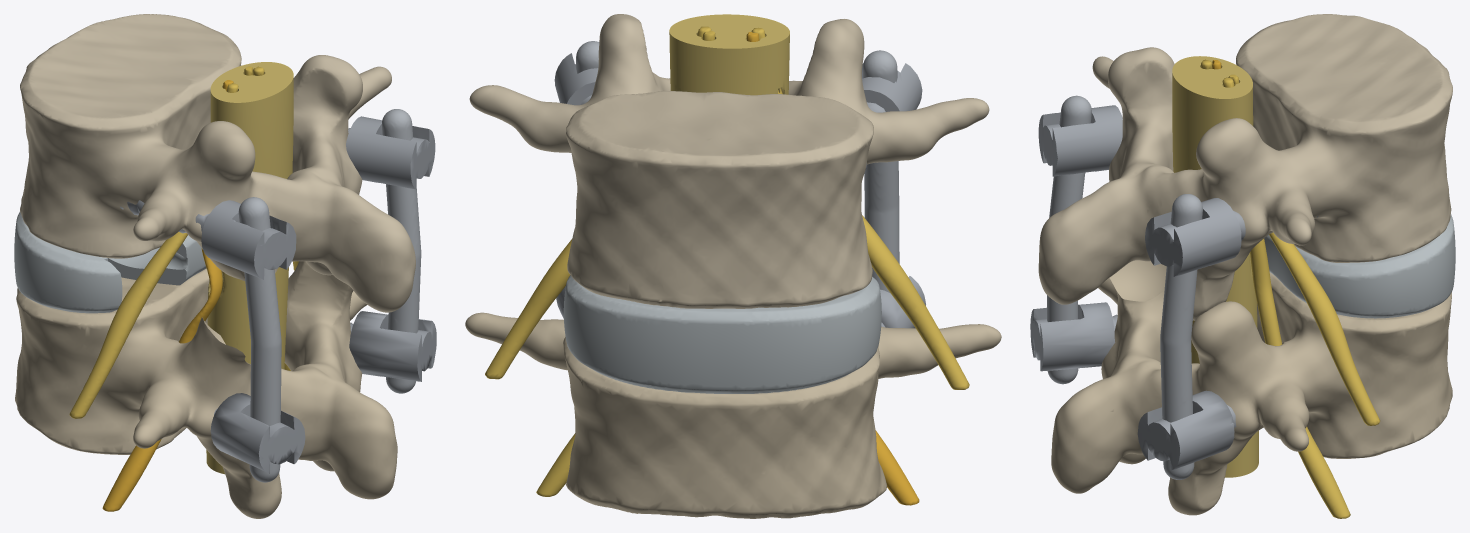
Rendered from spine_tlif.glb.
3 renders of one model, left to right at view 1: azimuth 30°, elevation 25°; view 2: azimuth 150°, elevation 25°; view 3: azimuth 270°, elevation 25°, orthographic. The views are drawn at different scales.
Visible parts, largest first — view 1: l4_vertebra, l5_vertebra, pedicle_screws, thecal_sac, rods, annulus_fibrosus, nerve_roots, l5_nerve_root_left; view 2: l4_vertebra, l5_vertebra, annulus_fibrosus, thecal_sac, nerve_roots, pedicle_screws, rods, l5_nerve_root_left; view 3: l4_vertebra, l5_vertebra, pedicle_screws, annulus_fibrosus, rods, thecal_sac, nerve_roots.
Part boxes in pixels (<box>): l4_vertebra: <box>20,14,415,312</box>; l5_vertebra: <box>15,261,397,518</box>; pedicle_screws: <box>120,116,436,473</box>; thecal_sac: <box>206,62,293,474</box>; rods: <box>238,109,421,482</box>; annulus_fibrosus: <box>14,212,206,313</box>; nerve_roots: <box>69,66,298,418</box>; l5_nerve_root_left: <box>102,80,233,511</box>; l4_vertebra: <box>469,14,989,308</box>; l5_vertebra: <box>465,312,1001,518</box>; annulus_fibrosus: <box>563,275,881,393</box>; thecal_sac: <box>669,14,789,95</box>; nerve_roots: <box>485,26,969,496</box>; pedicle_screws: <box>554,53,925,328</box>; rods: <box>576,41,899,293</box>; l5_nerve_root_left: <box>746,32,919,505</box>; l4_vertebra: <box>1038,14,1452,320</box>; l5_vertebra: <box>1051,260,1452,515</box>; pedicle_screws: <box>1030,105,1318,470</box>; annulus_fibrosus: <box>1264,214,1455,318</box>; rods: <box>1047,95,1202,479</box>; thecal_sac: <box>1172,56,1258,477</box>; nerve_roots: <box>1201,59,1380,518</box>.
Size of the model in its own units: 7.95 by 7.92 by 7.5.
